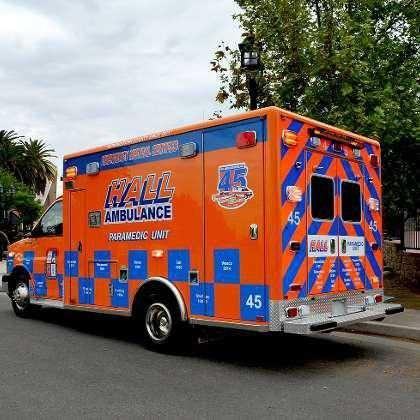car: (0, 105, 404, 348)
